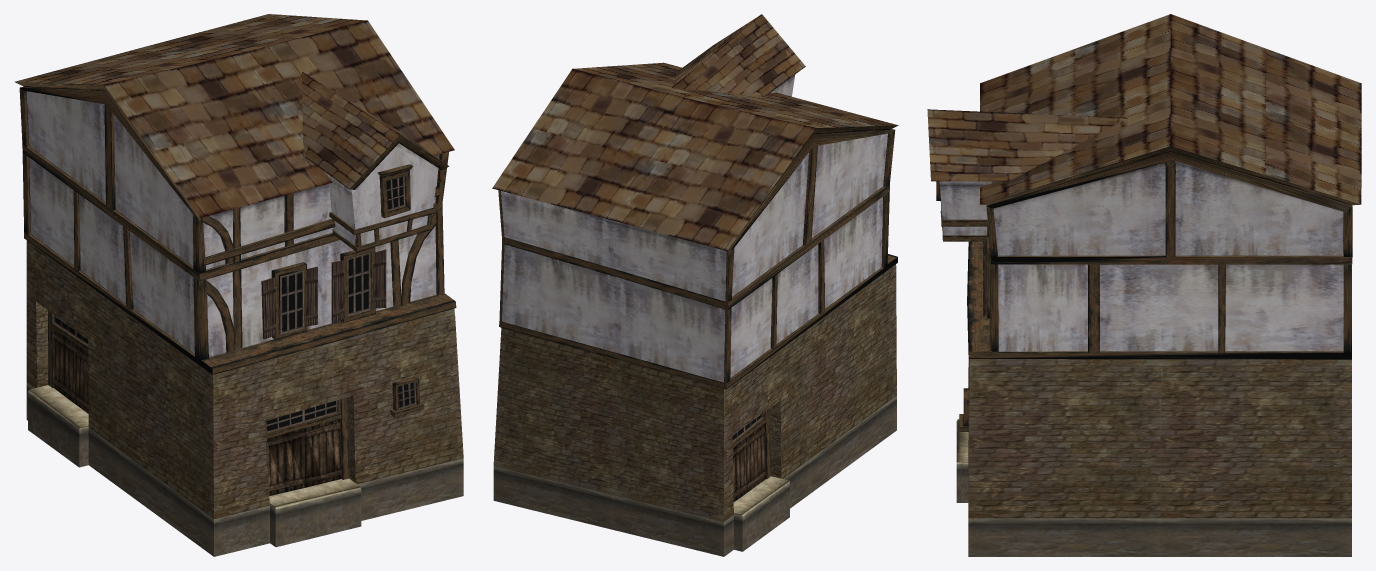
Rendered from english_k_tutorial.fbx.
3 renders of one model, left to right at view 1: azimuth 30°, elevation 25°; view 2: azimuth 150°, elevation 25°; view 3: azimuth 270°, elevation 25°, orthographic. The views are drawn at different scales.
Visible parts, largest first — view 1: building_shell, dormer, building_backdoors, door_left, window_01.001, door_right, window_01, window_e_04, door_left_2, trim3, building_shell1, trim.001 (+12 smaller); view 2: building_shell, dormer, building_backdoors, door_right_2, building_backdoors1, door_left_2; view 3: building_shell, dormer.
Part boxes in pixels (x1,y1,x2,y2): building_shell: [15, 14, 463, 556]; dormer: [302, 72, 449, 245]; building_backdoors: [28, 301, 88, 467]; door_left: [267, 428, 304, 495]; window_01.001: [271, 262, 307, 339]; door_right: [304, 419, 341, 487]; window_01: [340, 247, 375, 322]; window_e_04: [377, 164, 413, 218]; door_left_2: [53, 330, 75, 403]; trim3: [203, 186, 439, 265]; building_shell1: [269, 478, 360, 509]; trim.001: [232, 207, 242, 349]; building_shell: [492, 62, 898, 556]; dormer: [671, 14, 805, 96]; building_backdoors: [732, 401, 789, 551]; door_right_2: [746, 424, 765, 492]; building_backdoors1: [733, 476, 789, 514]; door_left_2: [733, 438, 746, 501]; building_shell: [956, 14, 1361, 556]; dormer: [927, 109, 1127, 235].
Bounding box in the file's own units: 3699 × 5391 × 5141.
Materials: 1 (1 with a texture image).
